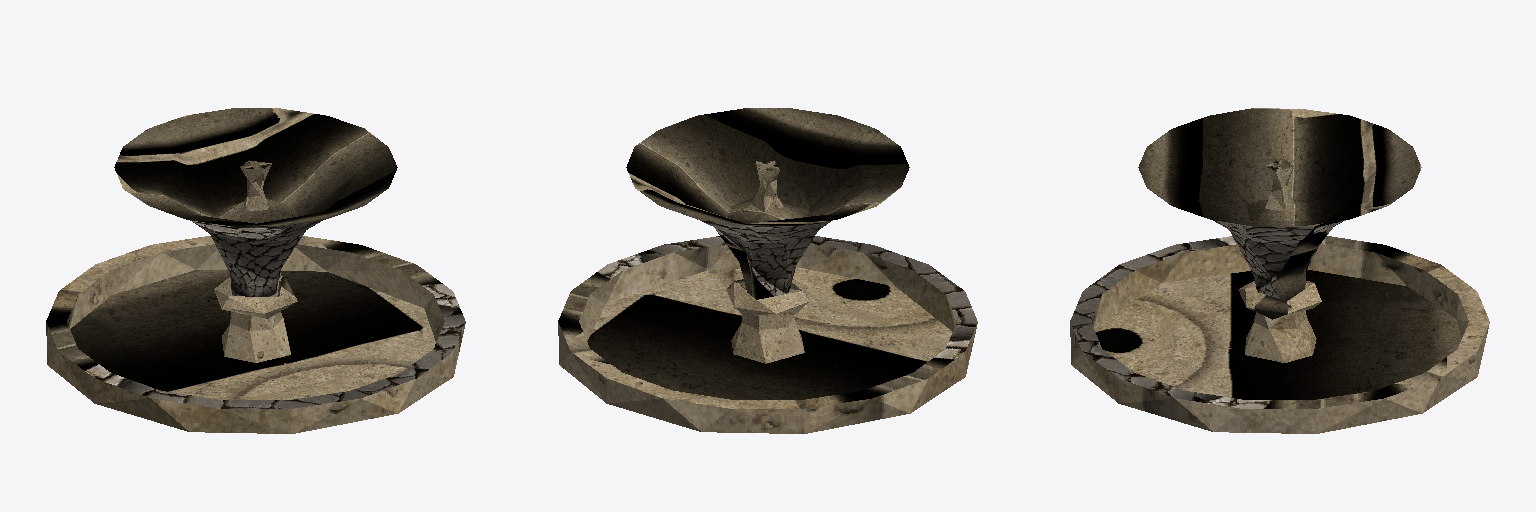
The picture shows the model from 3 angles: view 1: azimuth 30°, elevation 25°; view 2: azimuth 150°, elevation 25°; view 3: azimuth 270°, elevation 25°; orthographic projection.
Parts seen in each view (by area): view 1: fountain; view 2: fountain; view 3: fountain.
Part boxes in pixels (bbox=[...]): fountain: bbox=[46, 108, 465, 433]; fountain: bbox=[558, 108, 977, 433]; fountain: bbox=[1070, 108, 1489, 433].
Size of the model in its own units: 74.22 by 35.78 by 75.16.
Materials: 1 (1 with a texture image).